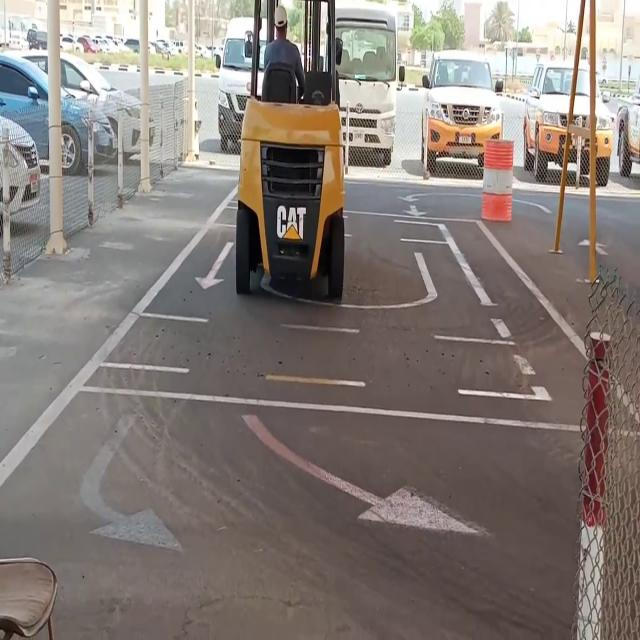Chariot elevateur: (225, 0, 362, 305)
